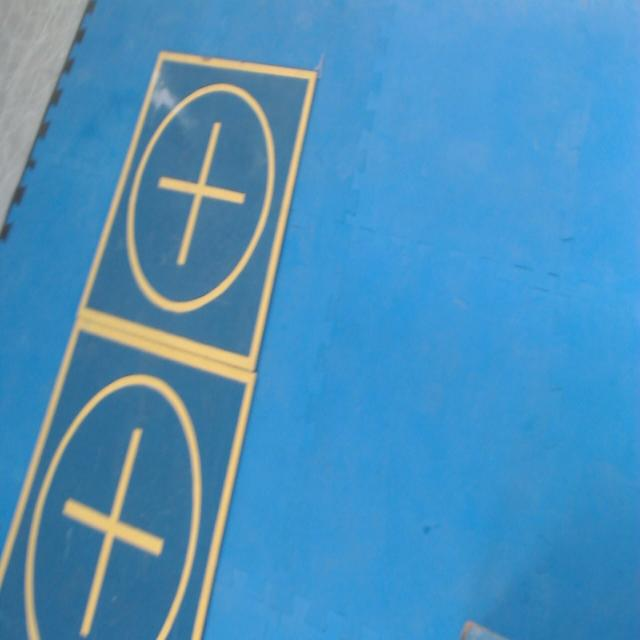base_pouso: (0, 312, 258, 639), (75, 52, 319, 375)
